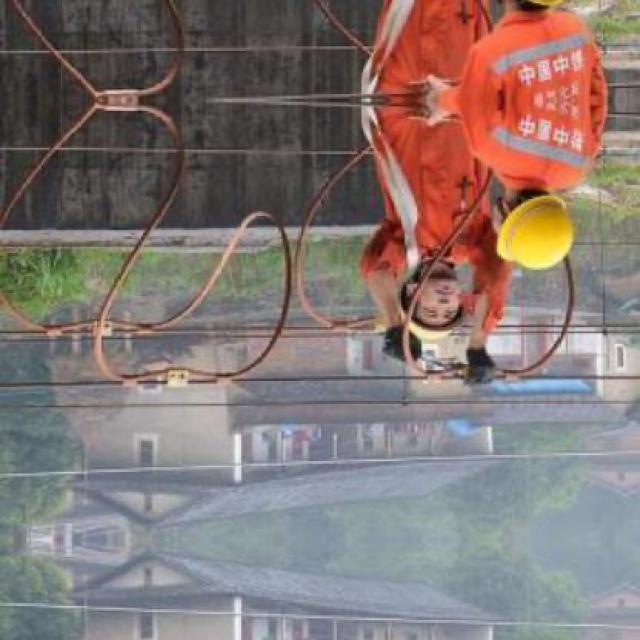con casco: (343, 225, 485, 342), (481, 166, 572, 270)
